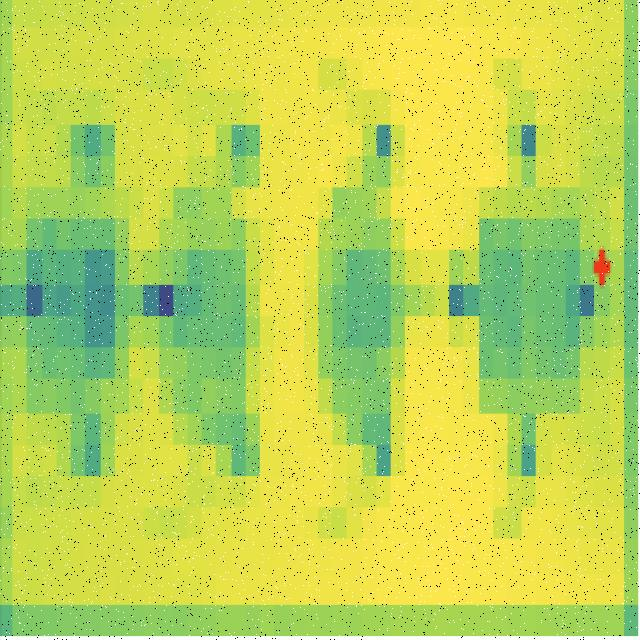Concrete: (462, 152, 595, 437)
Glass: (300, 152, 412, 495)
Metal: (15, 155, 146, 458)
Wood: (153, 147, 269, 444)
